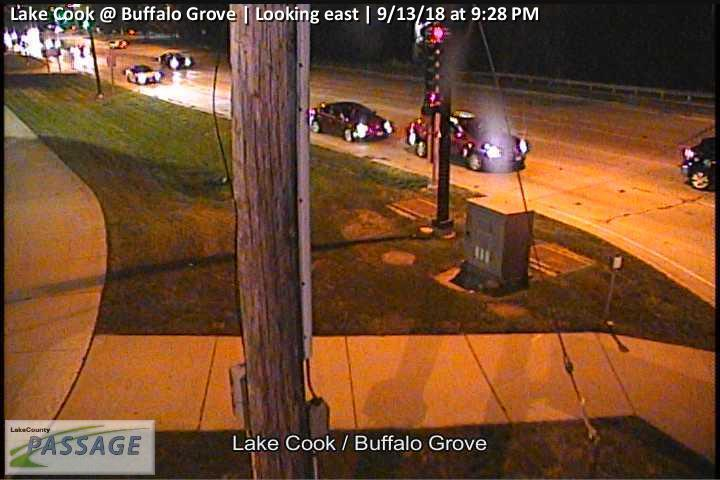Sedan: (406, 110, 528, 173), (309, 102, 393, 142), (125, 65, 162, 84), (157, 51, 192, 70)
